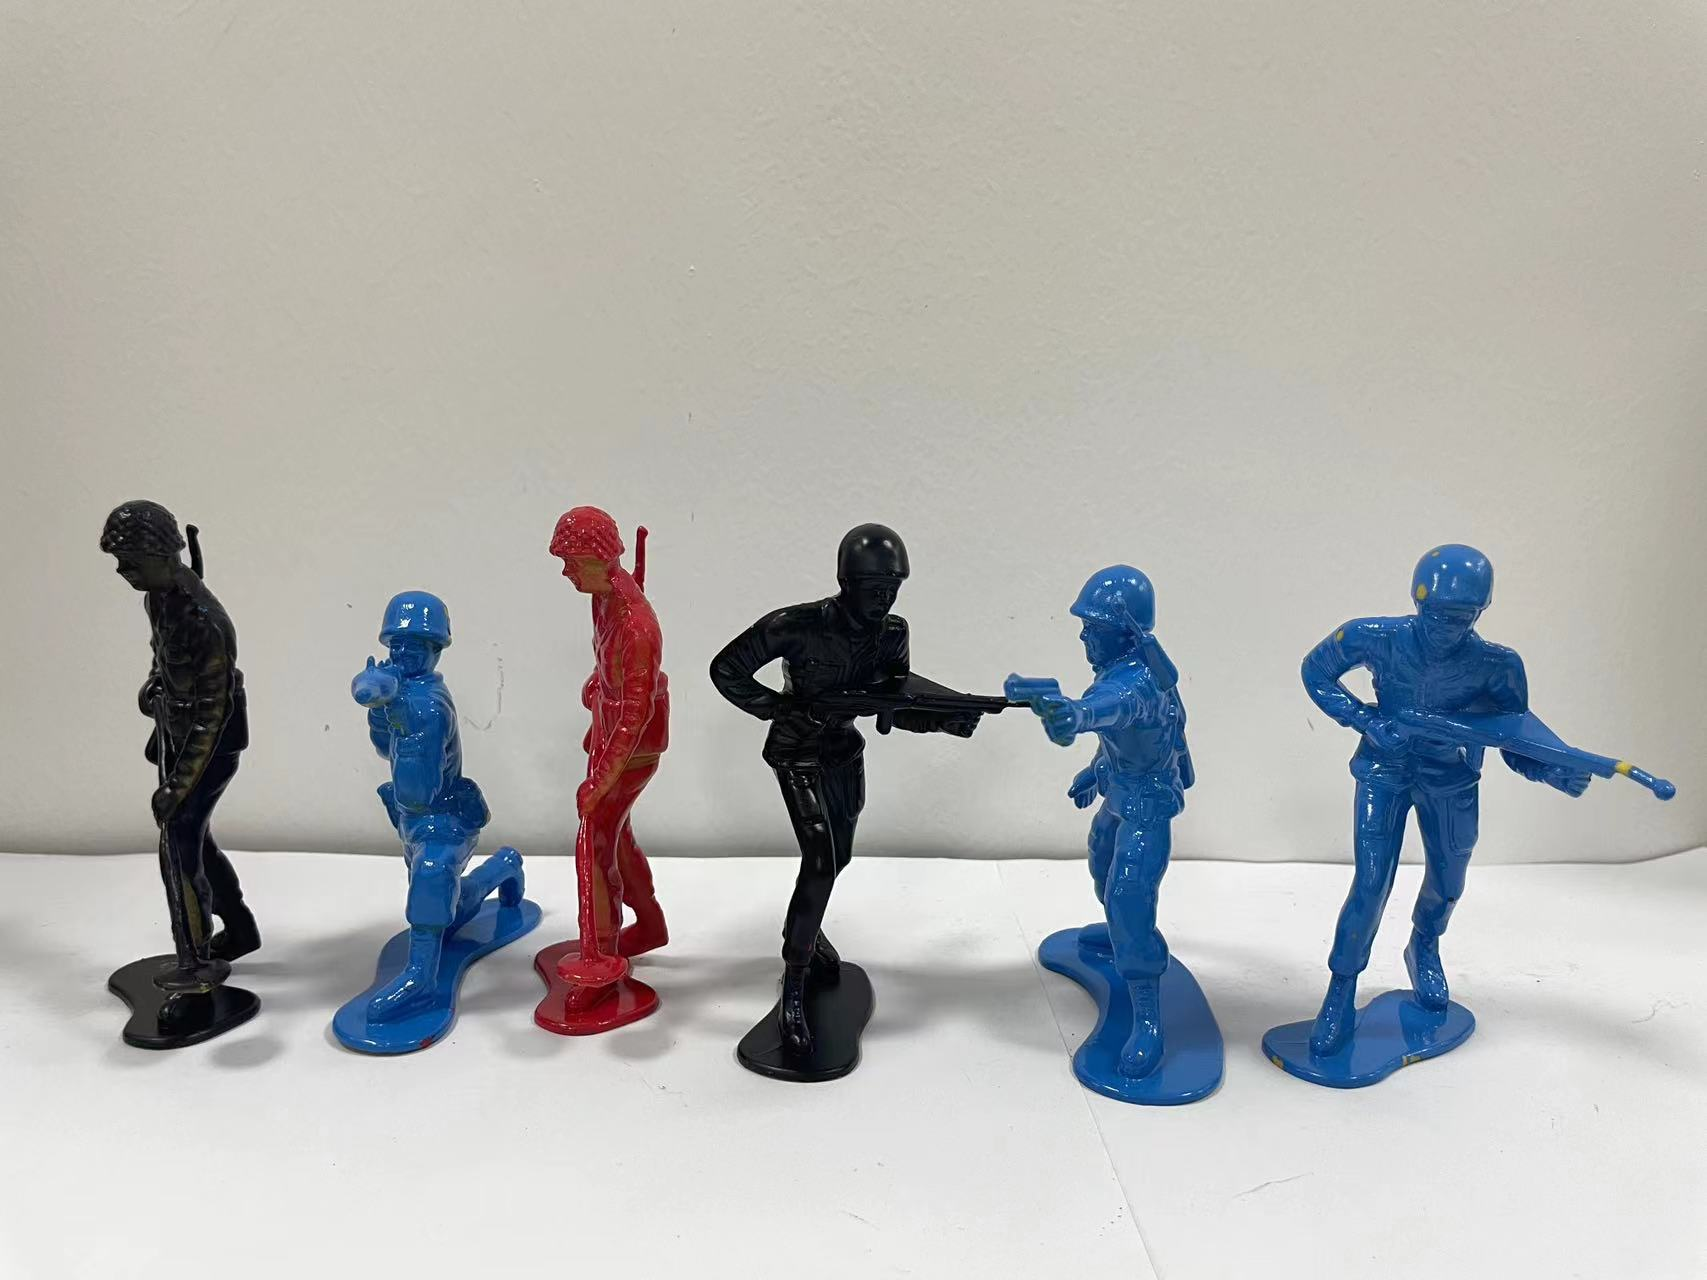black: (46, 450, 306, 1111), (703, 514, 973, 1119)
blue: (1284, 524, 1680, 1128), (985, 546, 1239, 1119), (328, 570, 532, 1094)
red: (544, 457, 706, 1113)
